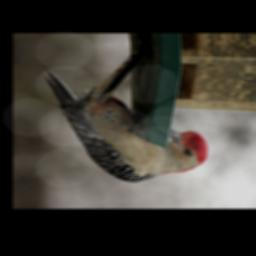Woodpecker: (37, 55, 210, 189)
